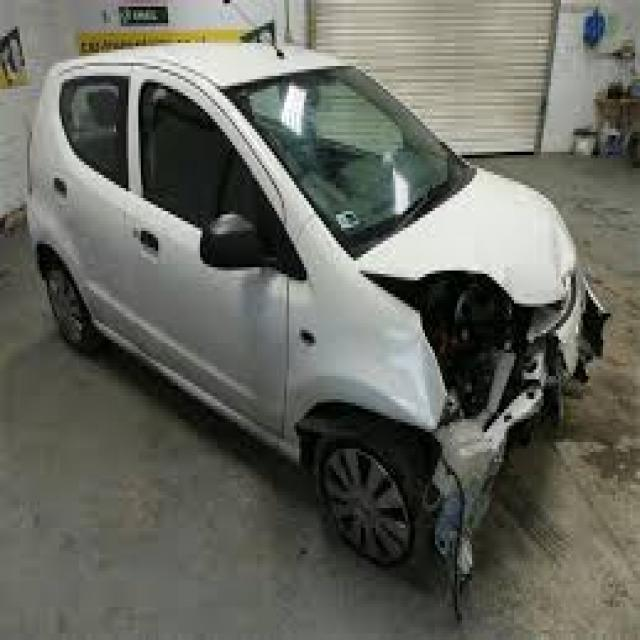severe: (351, 242, 624, 502)
